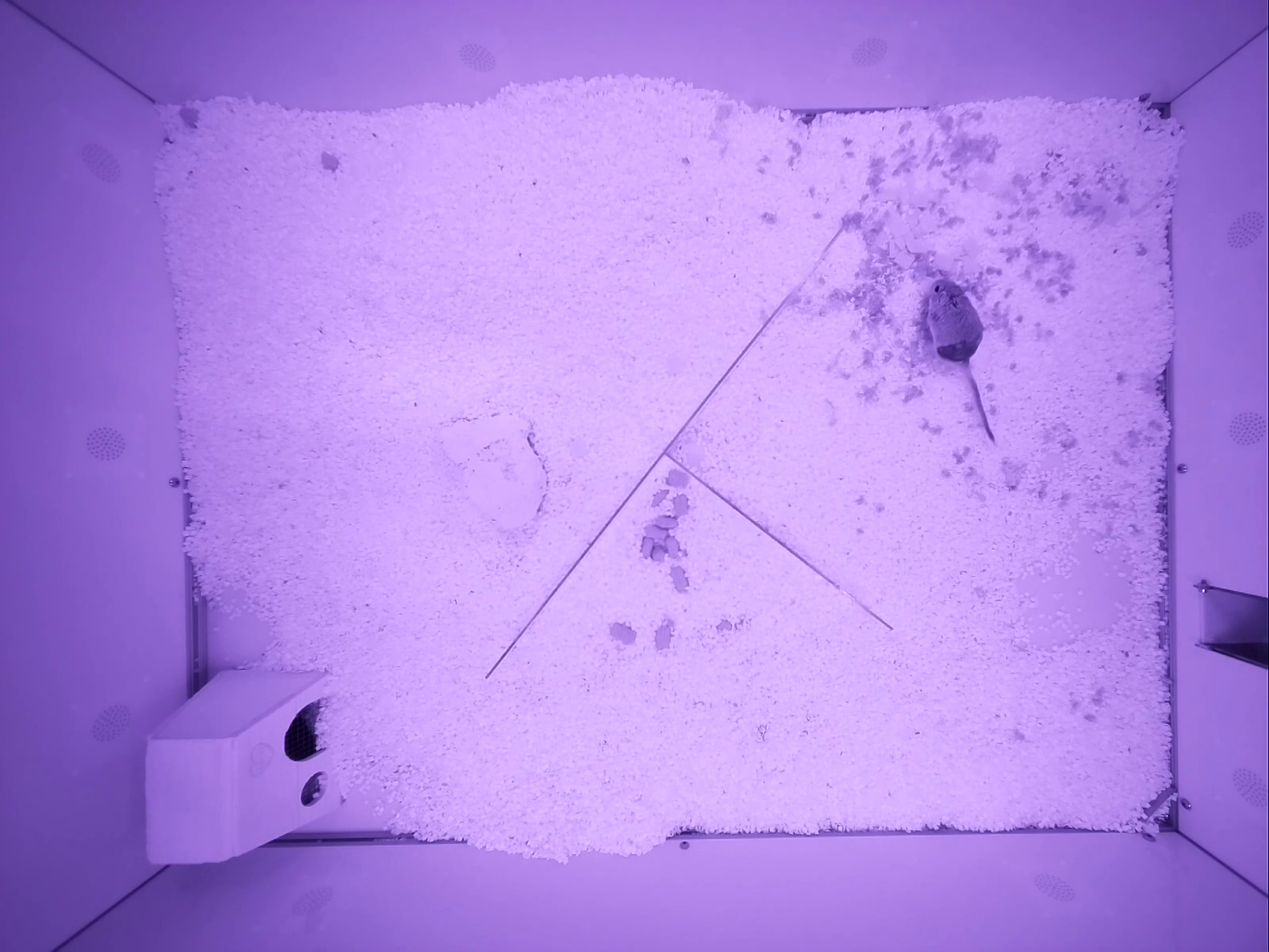adult_back: (926, 277, 994, 442)
